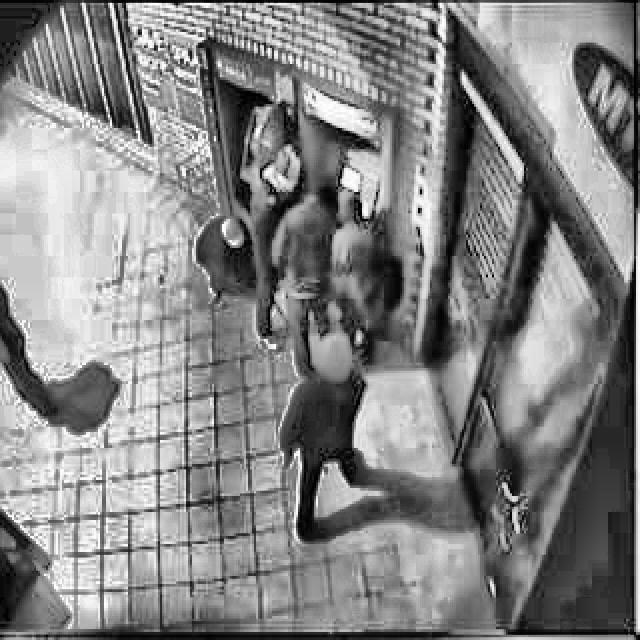burglary: (190, 90, 395, 378)
